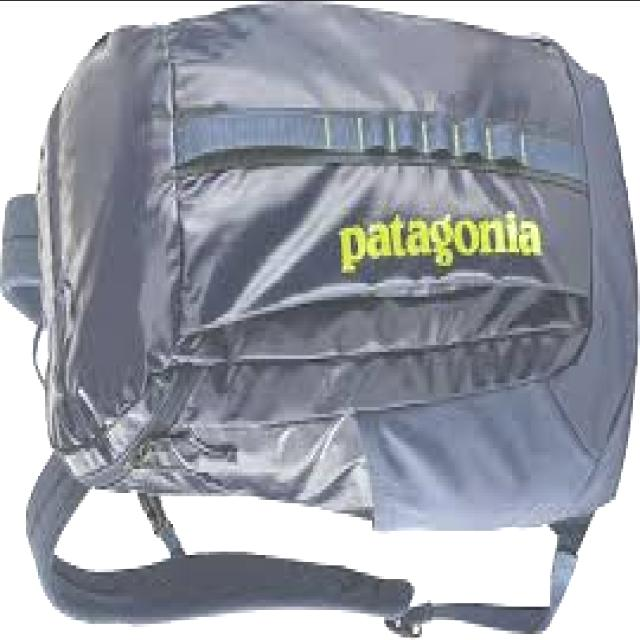backpack: (1, 5, 639, 640)
